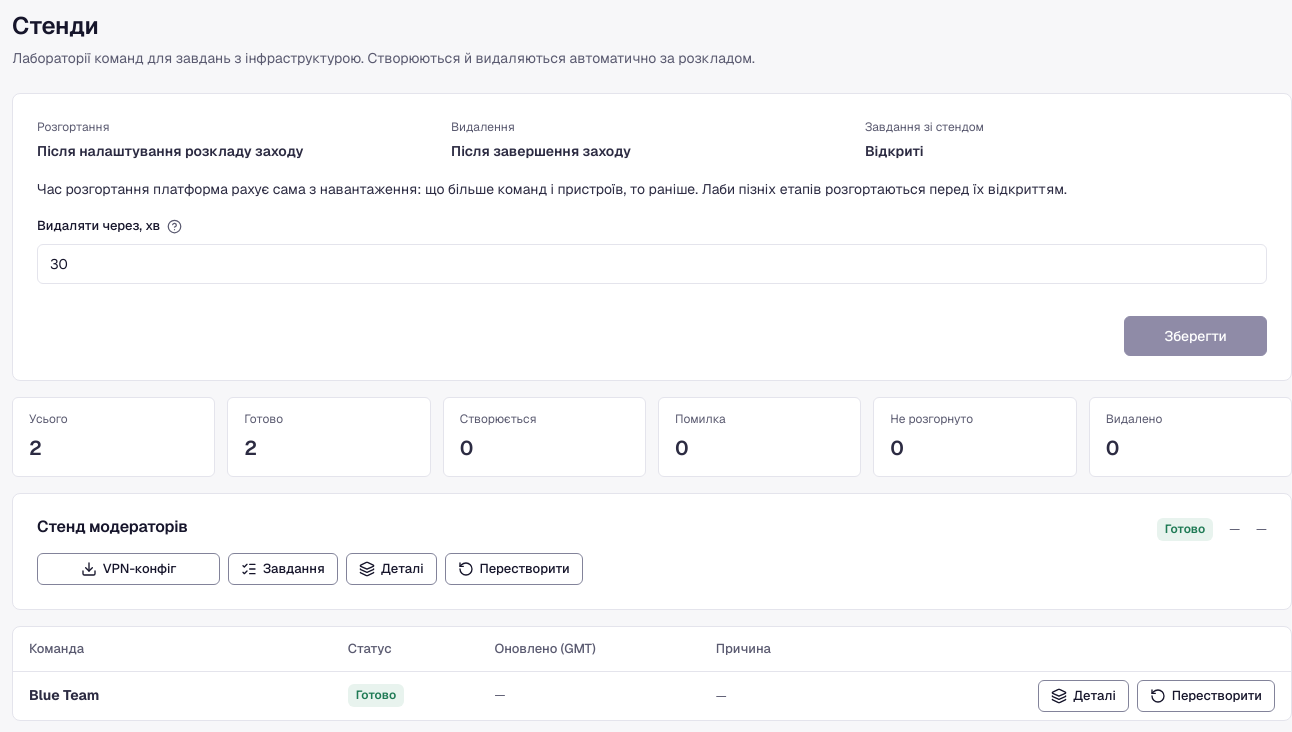
Test: shows what the VPN button is doing while the config downloads
This screenshot has width=1292, height=732.
Check: the text "Blue Team" is shown, box [29,686,100,704]
Click the button "VPN-конфіг".
click(129, 569)  # box [37,553,220,585]
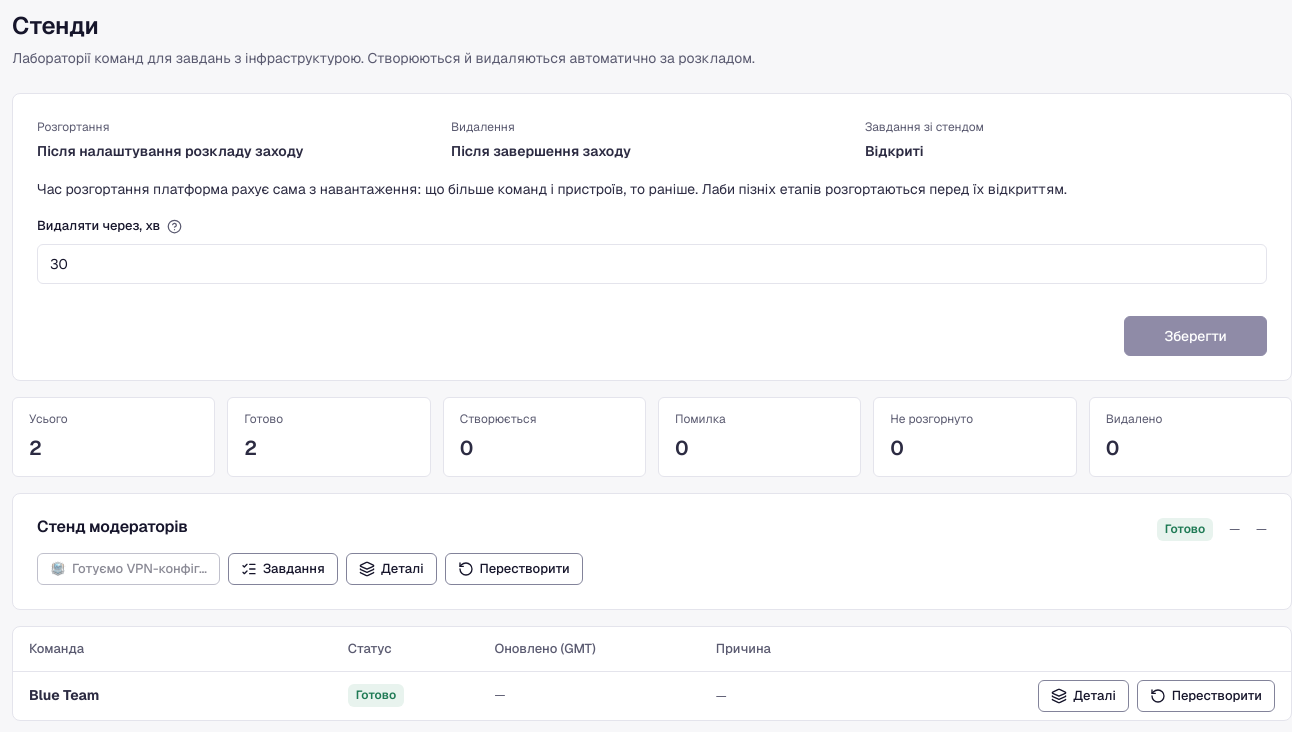
Check: the button "Готуємо VPN-конфіг…" is disabled, box [37,553,220,585]
Check: the button "Готуємо VPN-конфіг…" is shown, box [37,553,220,585]
